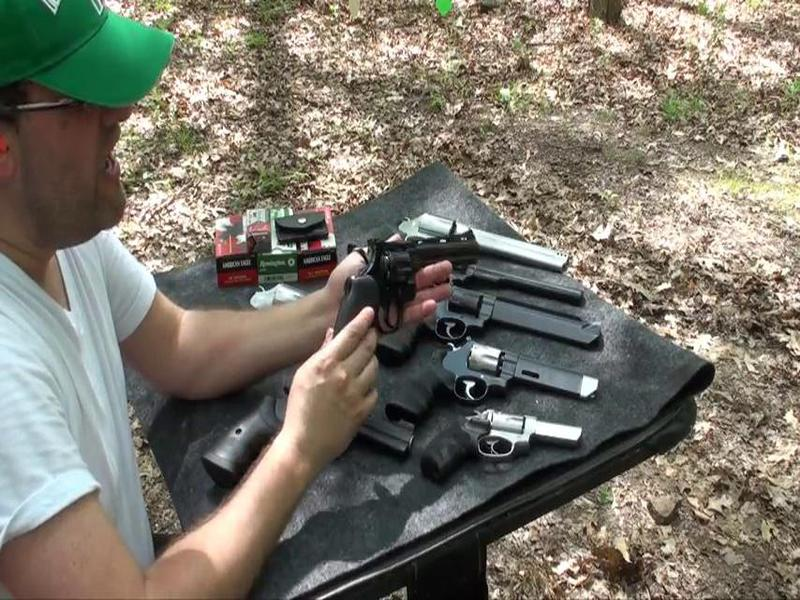Revolver: (327, 218, 486, 363)
